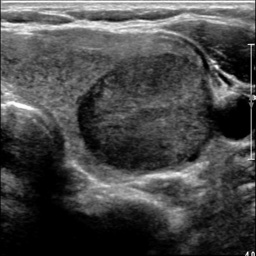mass: (76, 53, 212, 172)
